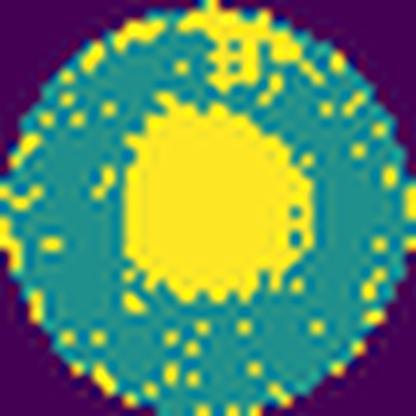Center: (125, 92, 318, 305)
